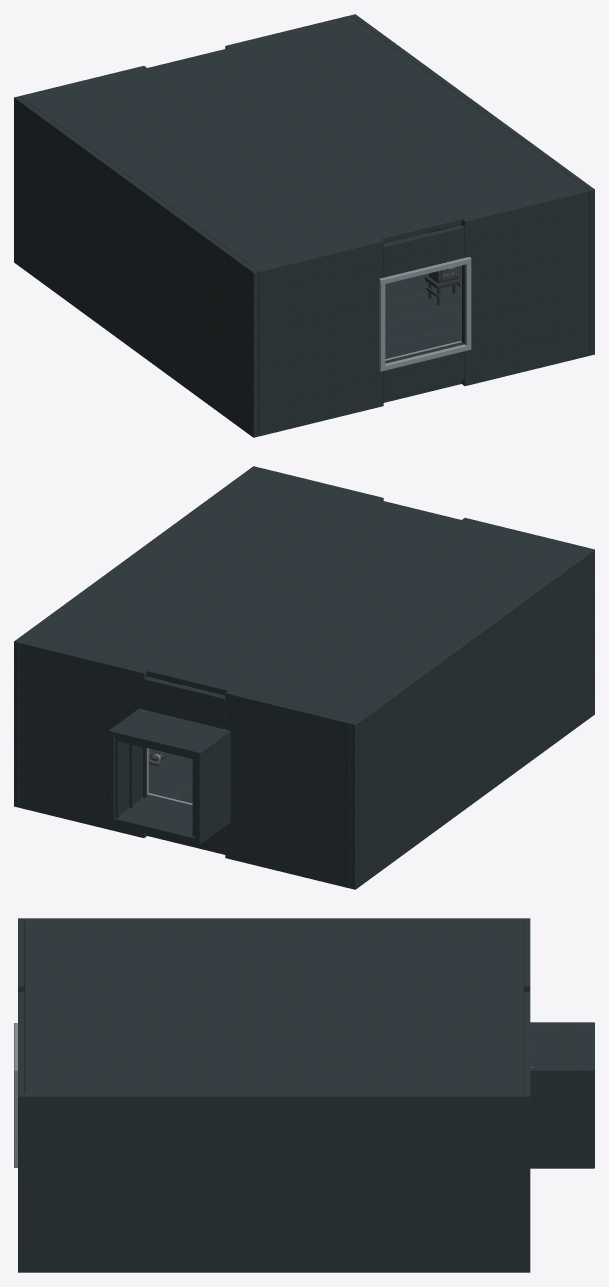
Rendered from l01-processing.glb.
The picture shows the model from 3 angles, top to bottom: view 1: azimuth 30°, elevation 25°; view 2: azimuth 150°, elevation 25°; view 3: azimuth 270°, elevation 25°; orthographic projection. The views are drawn at different scales.
Parts seen in each view (by area): view 1: batch_structure, batch_doorframes; view 2: batch_structure, batch_doorframes; view 3: batch_structure, batch_doorframes.
Part boxes in pixels (box(x1,y1,x2,y2)): batch_structure: box(14, 14, 594, 437); batch_doorframes: box(379, 257, 471, 371); batch_structure: box(14, 466, 594, 889); batch_doorframes: box(115, 710, 224, 836); batch_structure: box(18, 918, 594, 1272); batch_doorframes: box(14, 1023, 533, 1167).
Bounding box in the file's own units: 18.6 × 8.6 × 25.62.
8 materials, 4 textured.
